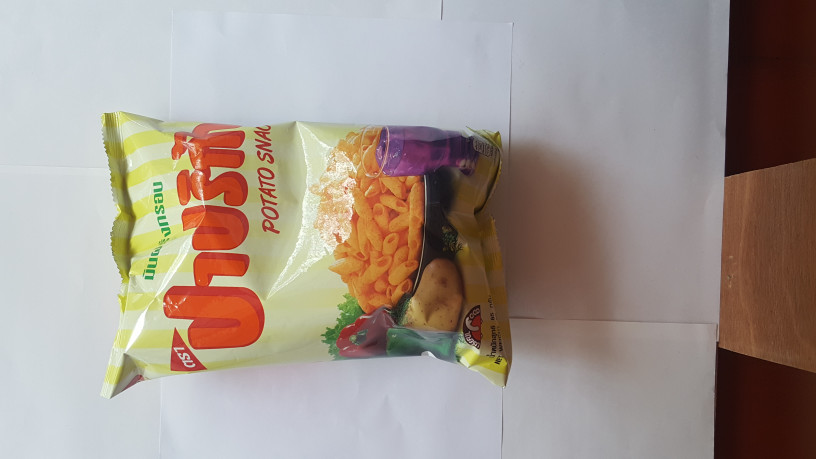paprika: (72, 93, 522, 409)
